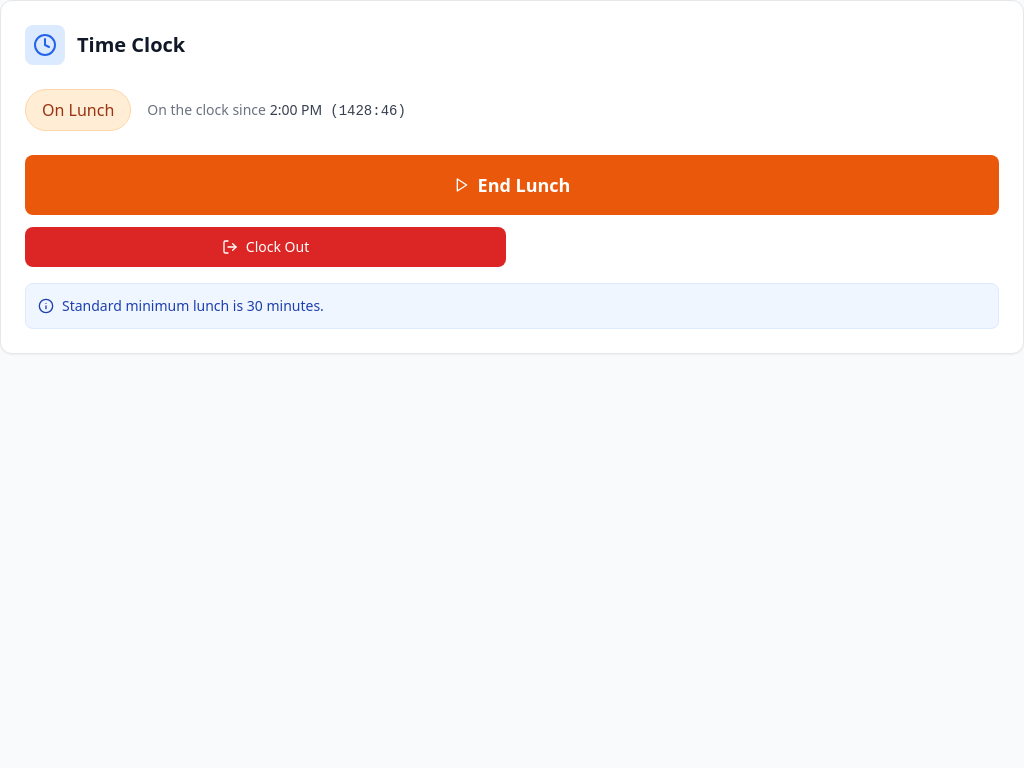
Test case: TimeClock — Clock Out while on lunch / unpaid break (explicit confirm) › ON_LUNCH: Cancel closes the dialog and dispatches nothing
This screenshot has width=1024, height=768.
Click the button "Clock Out": (266, 247) [25,227,506,267]
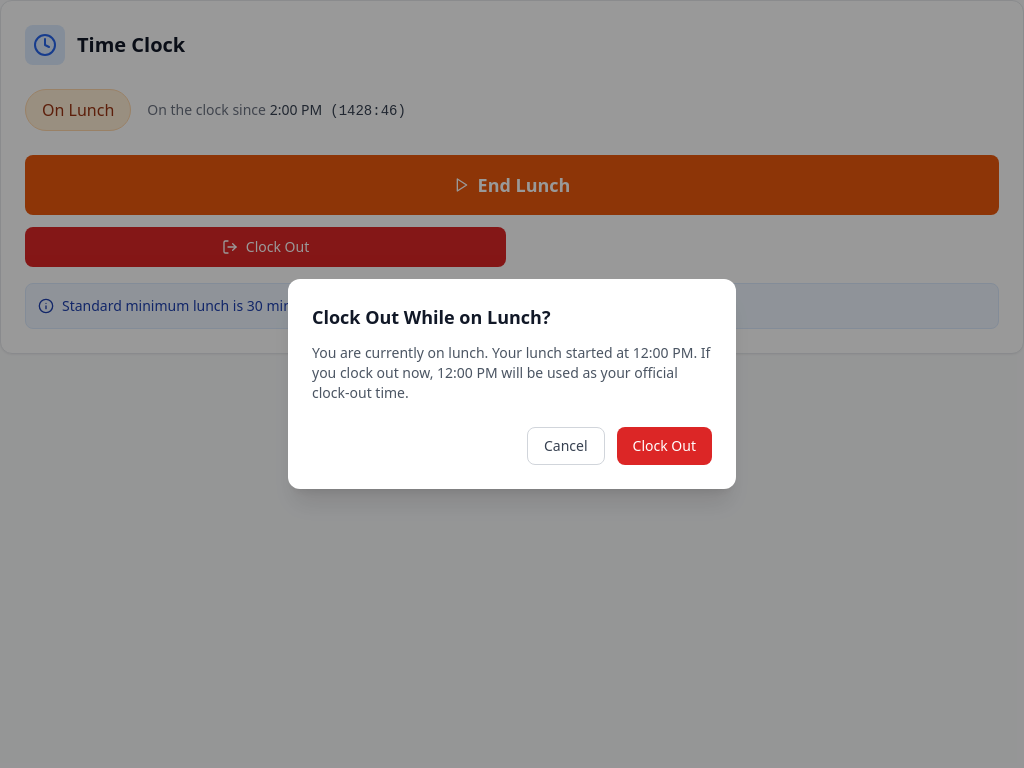
Click the button "Cancel": (566, 446) [527,427,605,465]
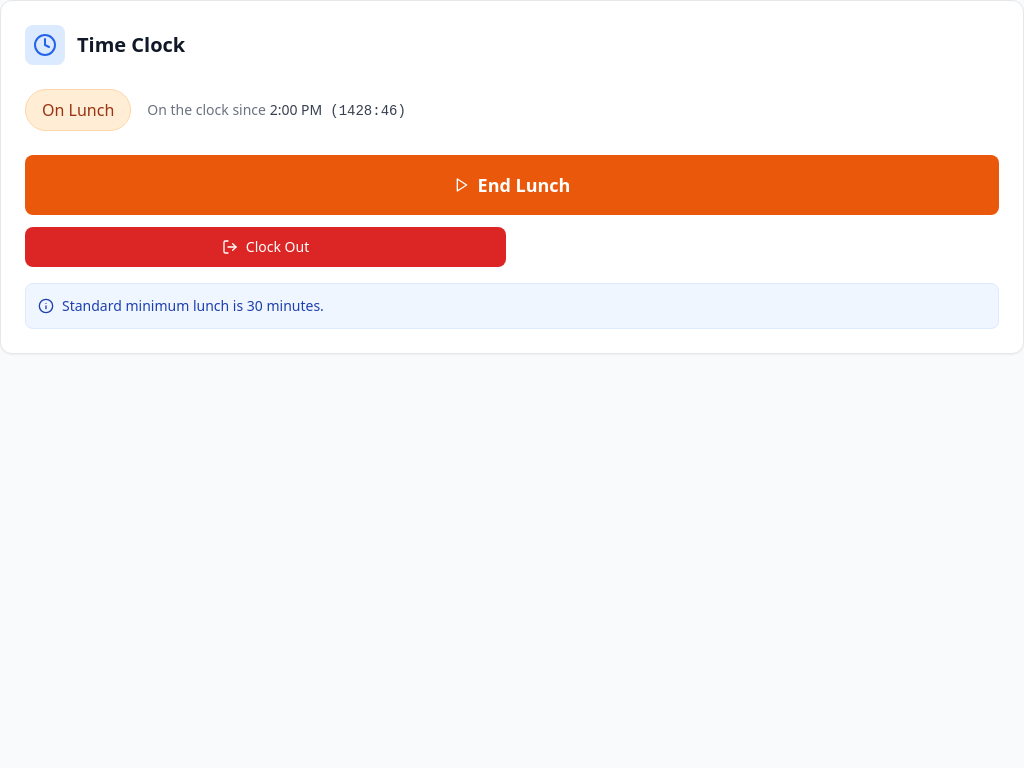
Expected: the button "End Lunch" is shown, [25,155,999,215]
Now the heading "Clock Out While on Lunch?" is gone
